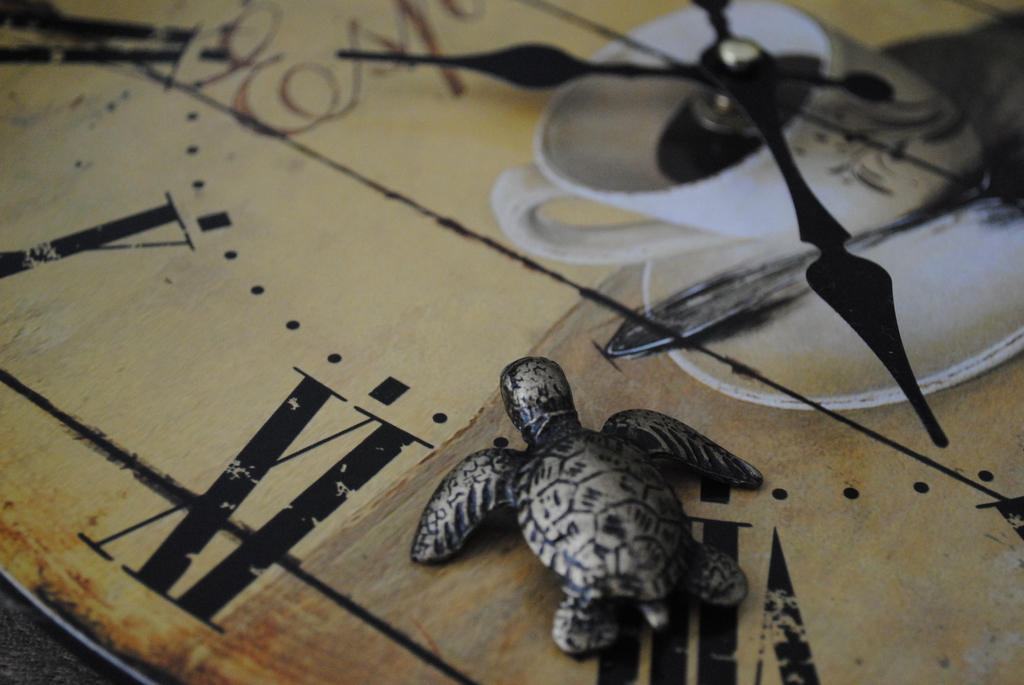Sea turtles: (403, 347, 769, 660)
